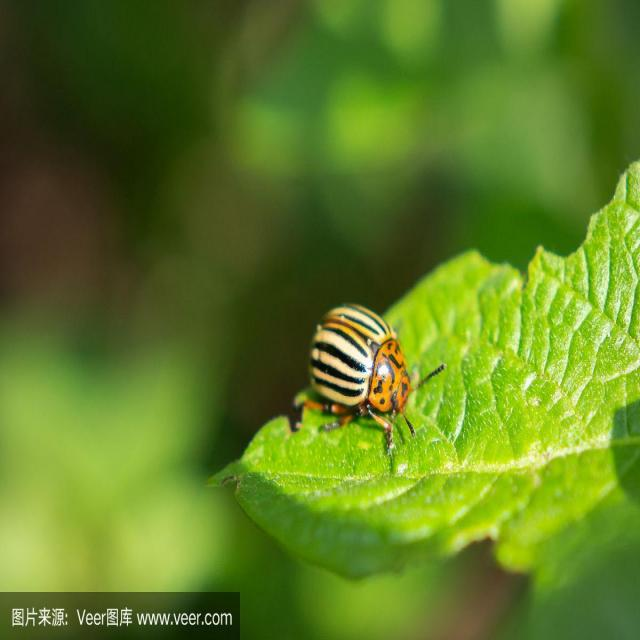ShuCaiHuaBanChong-Grown-: (273, 291, 428, 432)
